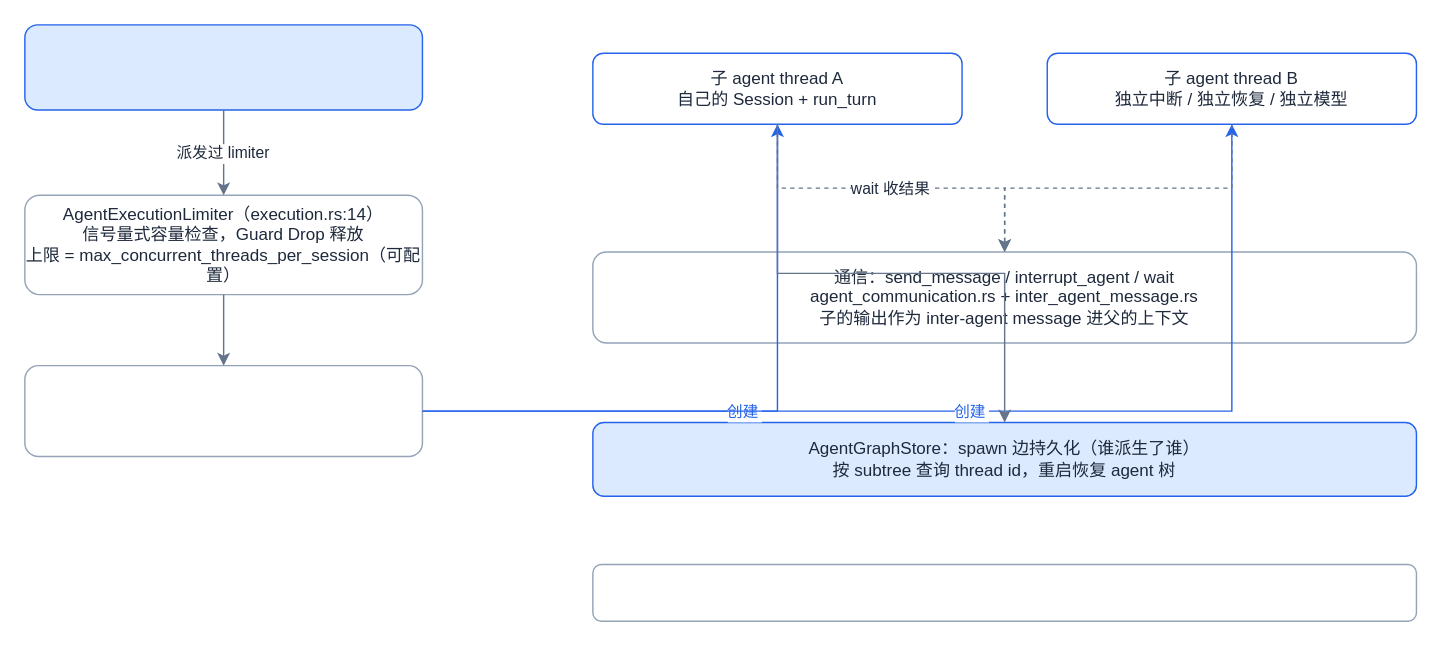
This 1441x646 diagram has some shape labels left out. The shapes that lost their labels are listed below. From the top down, each one's centre as x and y in pixels, then its label:
At (x=222, y=66): "父 agent thread （ThreadManager 管理的调度单元）".
At (x=222, y=410): "spawn_agent（multi_agents_v2/spawn.rs） fork_mode 可继承父完整历史 可覆盖 role / model / 推理参数".
At (x=1003, y=592): "agent 注册表：core/src/agent/registry.rs".
